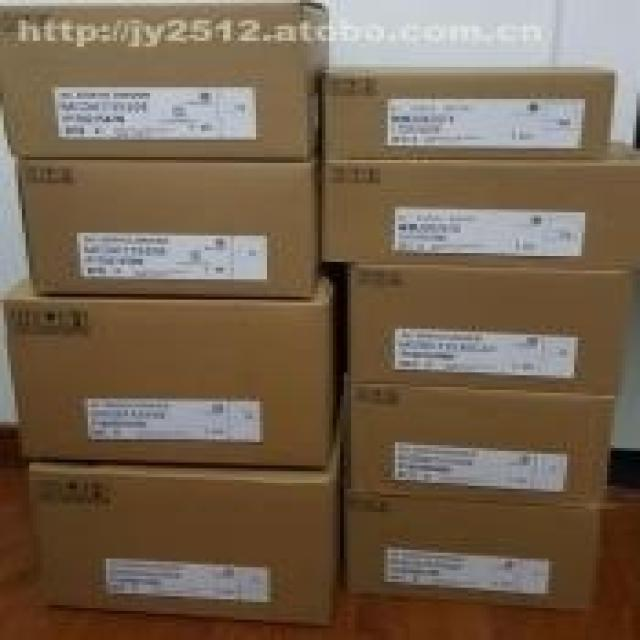box: (4, 276, 336, 465), (0, 0, 325, 160), (33, 457, 336, 623), (15, 157, 322, 297), (325, 143, 640, 268), (351, 265, 636, 393), (355, 381, 622, 503), (355, 497, 607, 611), (325, 64, 618, 160)
